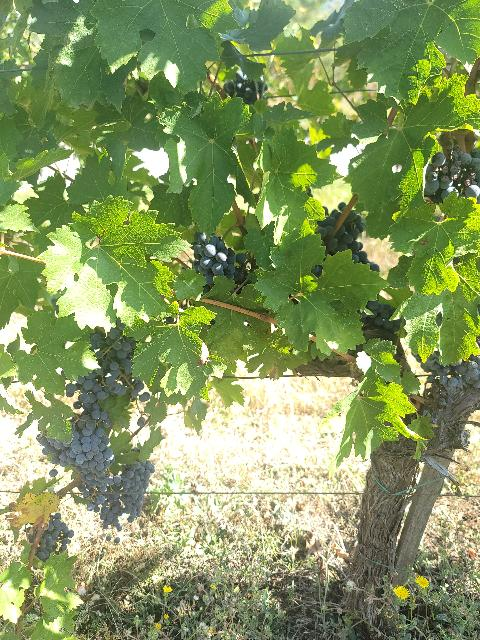grapes: (316, 202, 379, 271), (54, 420, 114, 488), (90, 324, 144, 398), (192, 231, 246, 290), (115, 461, 155, 518), (35, 512, 74, 561)
